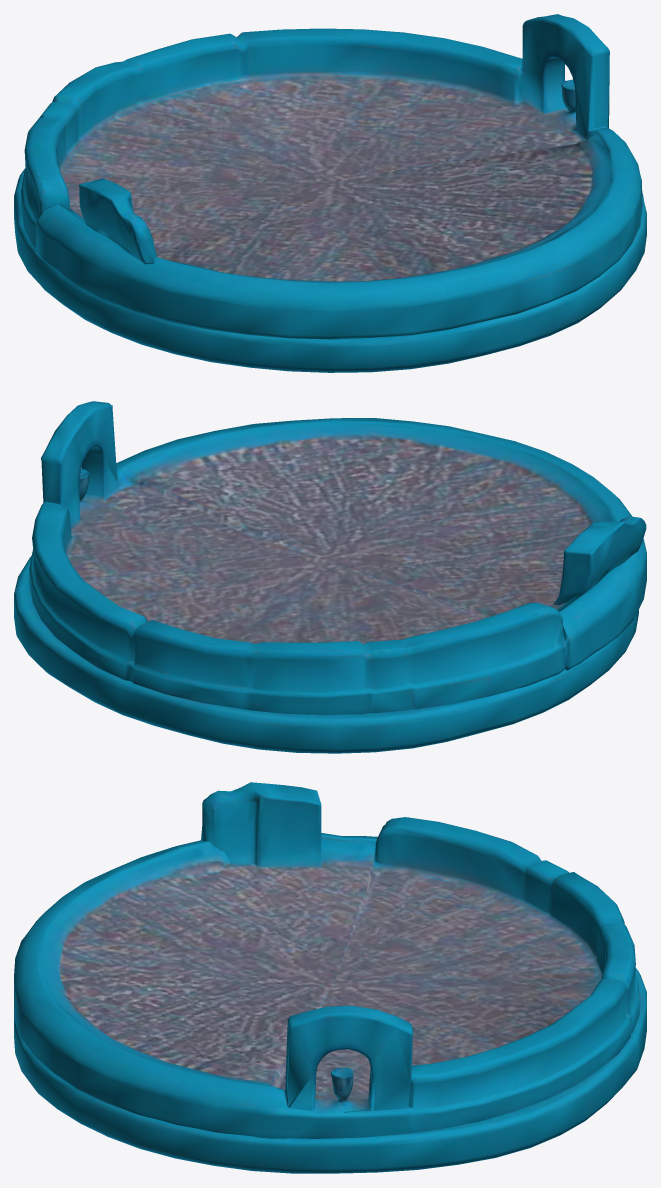
Rendered from base-courtyard.c28e6daf.glb.
The picture shows the model from 3 angles, top to bottom: view 1: azimuth 30°, elevation 25°; view 2: azimuth 150°, elevation 25°; view 3: azimuth 270°, elevation 25°; orthographic projection.
Parts seen in each view (by area): view 1: tripo_node_88ab80bf-442b-4f35-8c32-9b470bc4f73a; view 2: tripo_node_88ab80bf-442b-4f35-8c32-9b470bc4f73a; view 3: tripo_node_88ab80bf-442b-4f35-8c32-9b470bc4f73a.
Boxes of the visible parts, bbox=[...] form: tripo_node_88ab80bf-442b-4f35-8c32-9b470bc4f73a: bbox=[14, 14, 646, 372]; tripo_node_88ab80bf-442b-4f35-8c32-9b470bc4f73a: bbox=[14, 401, 646, 753]; tripo_node_88ab80bf-442b-4f35-8c32-9b470bc4f73a: bbox=[14, 782, 646, 1173].
Bounding box in the file's own units: 0.9941 × 0.2715 × 0.998.
1 material, 1 textured.
